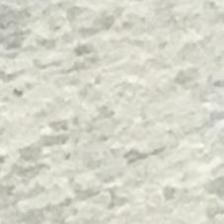Non_Crack: (27, 18, 224, 222)
